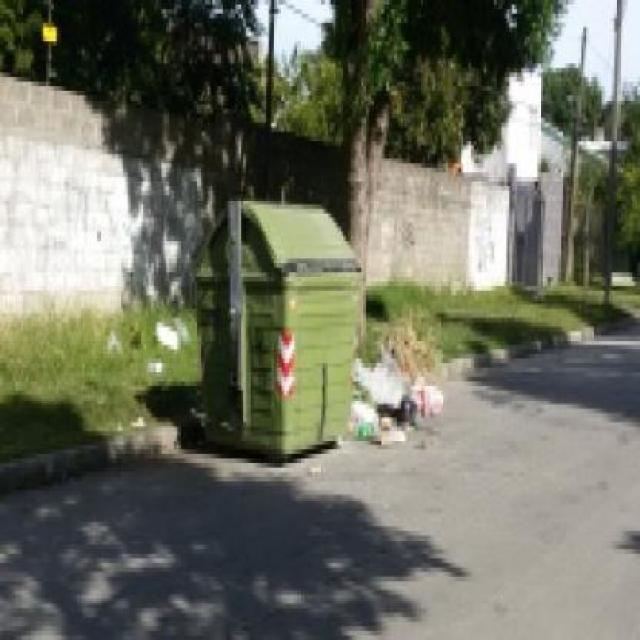garbage: (328, 318, 446, 450)
